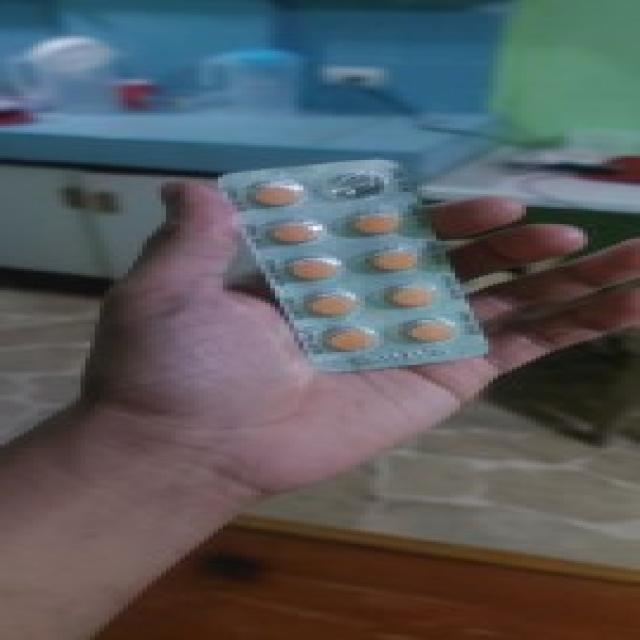Cacat: (212, 156, 488, 372)
Kemasan: (315, 168, 398, 201)
